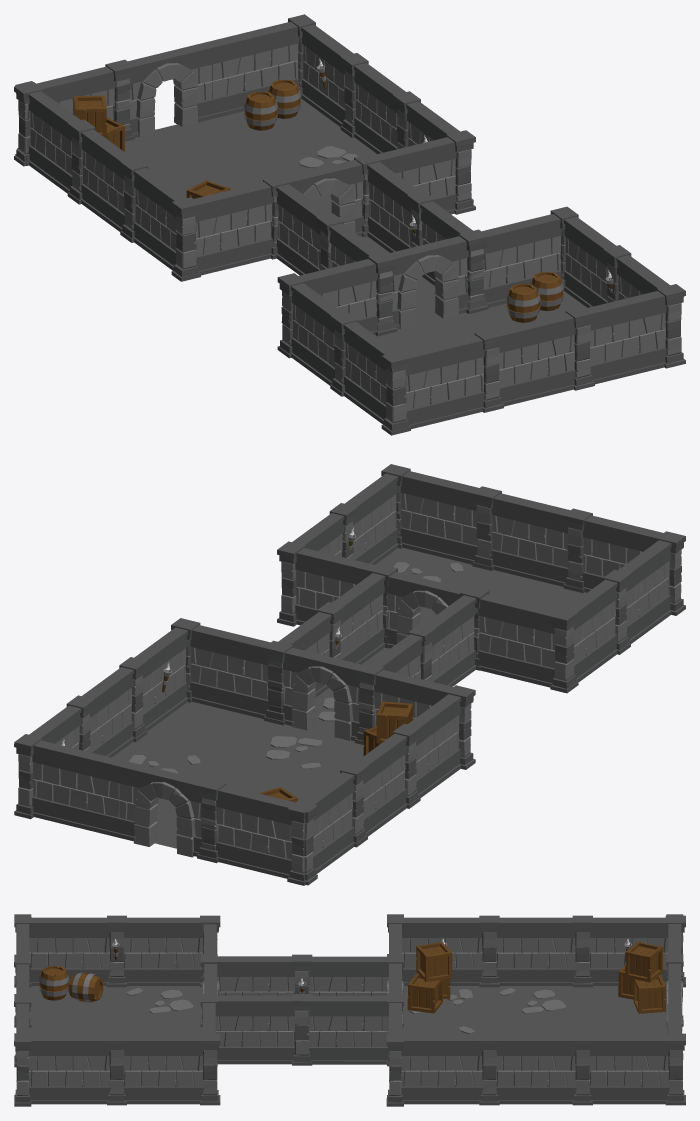
The model's file is DungeonModelSelin.fbx.
The picture shows the model from 3 angles, top to bottom: view 1: azimuth 30°, elevation 25°; view 2: azimuth 150°, elevation 25°; view 3: azimuth 270°, elevation 25°; orthographic projection. The views are drawn at different scales.
Visible parts, largest first — view 1: Cube.051, Cube.015, Cube.048, Cube.045, Cube.009, Plane.054, Plane.002, Cube.024, Cube.006, Cube.017, Cube.054, Plane.011 (+29 smaller); view 2: Cube.048, Cube.009, Plane.002, Cube.019, Cube.006, Cube.045, Cube.014, Plane.038, Cube.054, Cube.053, Cube.016, Cube.018 (+25 smaller); view 3: Cube.005, Cube.047, Cube.046, Cube.004, Cube.003, Cube.017, Cube.020, Cube.053, Cube.054, Plane.001, Cube.016, Cube.018 (+32 smaller).
Boxes of the visible parts, bbox=[...] form: Cube.051: bbox=[381, 335, 484, 435]; Cube.015: bbox=[171, 182, 273, 281]; Cube.048: bbox=[497, 306, 594, 406]; Cube.045: bbox=[588, 284, 685, 384]; Cube.009: bbox=[105, 42, 214, 141]; Plane.054: bbox=[459, 214, 561, 313]; Plane.002: bbox=[207, 21, 299, 118]; Cube.024: bbox=[390, 236, 468, 329]; Cube.006: bbox=[376, 130, 475, 214]; Cube.017: bbox=[67, 119, 132, 231]; Cube.054: bbox=[277, 273, 342, 385]; Plane.011: bbox=[125, 118, 262, 176]; Cube.048: bbox=[472, 486, 570, 586]; Cube.009: bbox=[116, 761, 226, 863]; Plane.002: bbox=[32, 740, 124, 836]; Cube.019: bbox=[215, 785, 317, 885]; Cube.006: bbox=[171, 618, 270, 718]; Cube.045: bbox=[381, 464, 478, 564]; Cube.014: bbox=[278, 647, 384, 745]; Plane.038: bbox=[478, 594, 557, 687]; Cube.054: bbox=[550, 579, 617, 693]; Cube.053: bbox=[603, 540, 671, 654]; Cube.016: bbox=[392, 694, 461, 808]; Cube.018: bbox=[287, 772, 355, 885]; Cube.005: bbox=[401, 1033, 499, 1105]; Cube.047: bbox=[28, 1033, 126, 1105]; Cube.046: bbox=[124, 1033, 220, 1105]; Cube.004: bbox=[496, 1033, 592, 1105]; Cube.003: bbox=[589, 1033, 685, 1105]; Cube.017: bbox=[496, 915, 592, 987]; Cube.020: bbox=[292, 994, 389, 1065]; Cube.053: bbox=[29, 915, 126, 987]; Cube.054: bbox=[124, 915, 220, 987]; Plane.001: bbox=[215, 995, 295, 1064]; Cube.016: bbox=[402, 915, 499, 987]; Cube.018: bbox=[589, 915, 685, 987].
Bounding box in the file's own units: 1296 × 320 × 2886.
